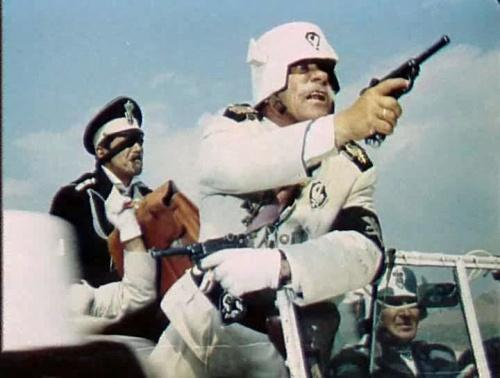Gun: (362, 32, 452, 146), (152, 233, 252, 323)
